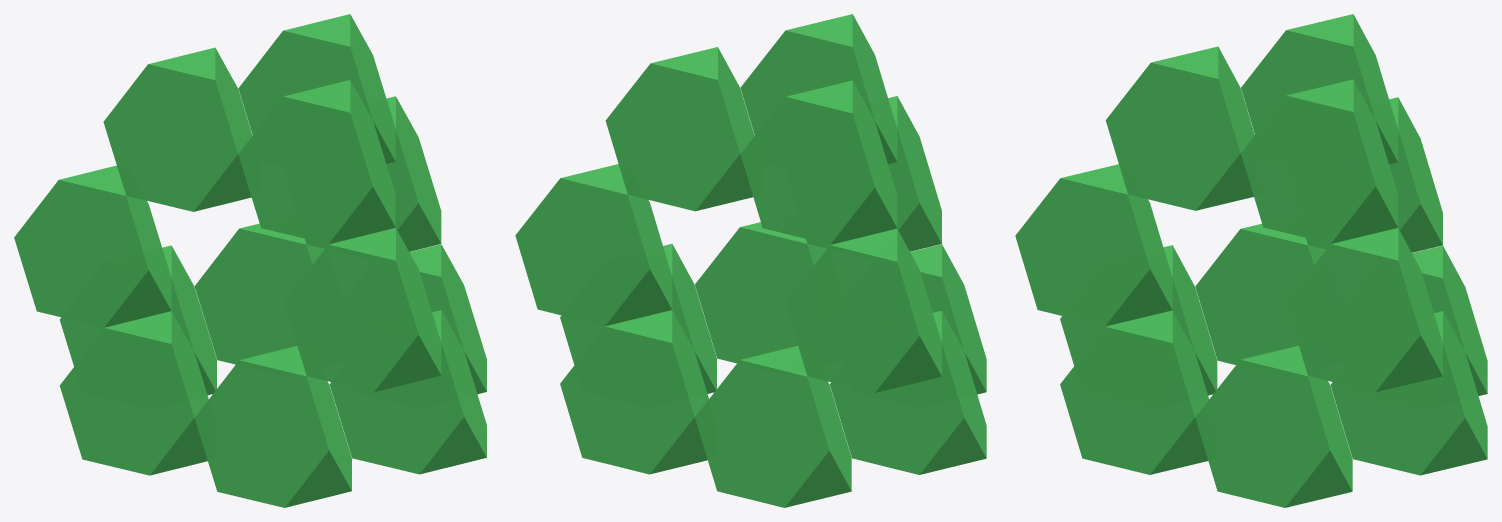
The model's file is fractaltruncatedtetrahedron1.glb.
The picture shows the model from 3 angles, left to right: view 1: azimuth 30°, elevation 25°; view 2: azimuth 150°, elevation 25°; view 3: azimuth 270°, elevation 25°; orthographic projection.
Size of the model in its own units: 10 by 8.18 by 10.08.
